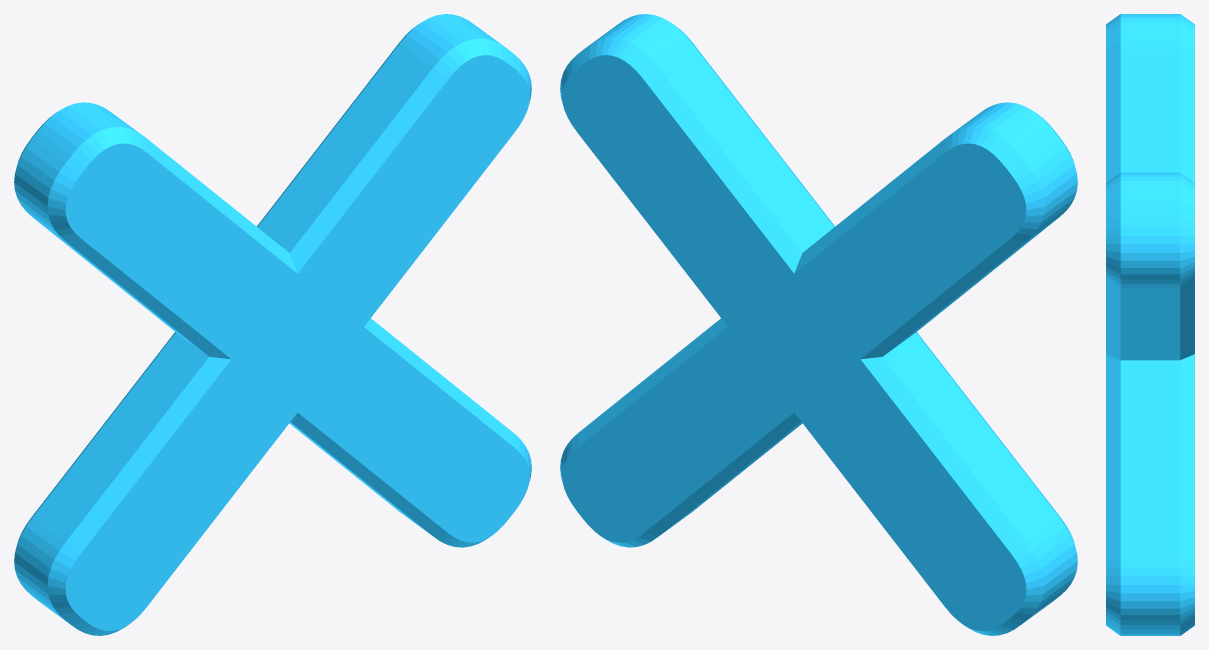
The picture shows the model from 3 angles, left to right: view 1: azimuth 30°, elevation 25°; view 2: azimuth 150°, elevation 25°; view 3: azimuth 270°, elevation 25°; orthographic projection. The views are drawn at different scales.
Visible parts, largest first — view 1: Arm NW-SE beveled solid, Arm NE-SW beveled solid; view 2: Arm NW-SE beveled solid, Arm NE-SW beveled solid; view 3: Arm NE-SW beveled solid, Arm NW-SE beveled solid.
Boxes of the visible parts, x1=… form: Arm NW-SE beveled solid: x1=14, y1=14, x2=531, y2=635; Arm NE-SW beveled solid: x1=14, y1=102, x2=531, y2=547; Arm NW-SE beveled solid: x1=560, y1=14, x2=1077, y2=635; Arm NE-SW beveled solid: x1=560, y1=102, x2=1077, y2=547; Arm NE-SW beveled solid: x1=1106, y1=14, x2=1194, y2=635; Arm NW-SE beveled solid: x1=1106, y1=172, x2=1194, y2=360.
Size of the model in its own units: 1.21 by 1.21 by 0.215.
